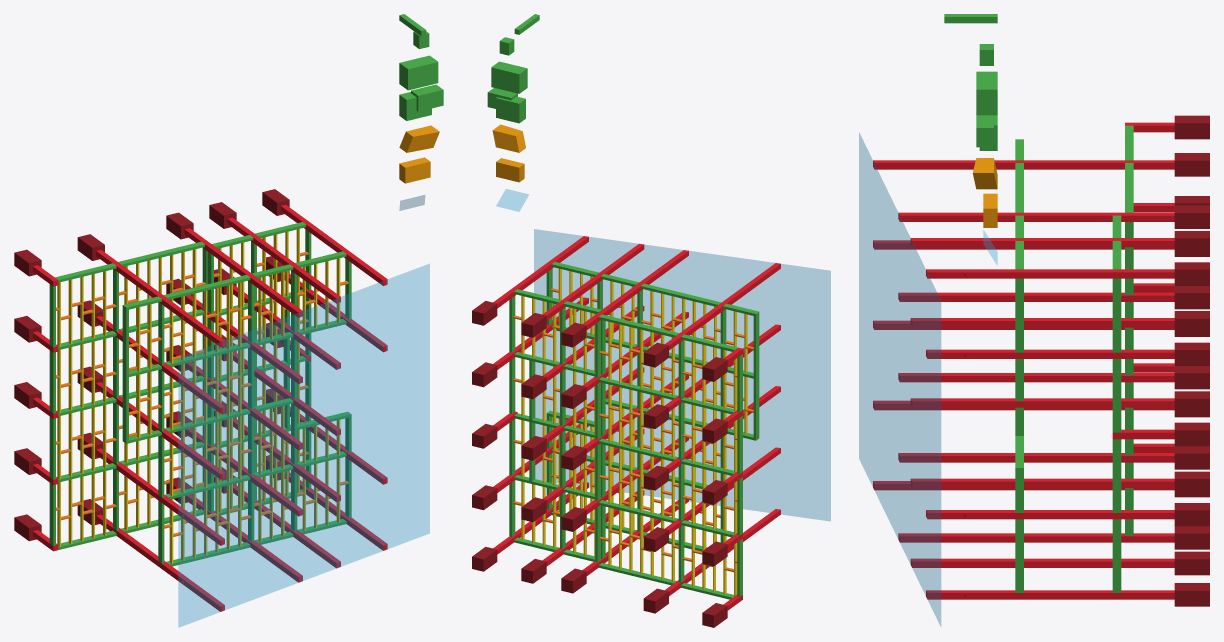
File: tinker.obj
3 renders of one model, left to right at view 1: azimuth 30°, elevation 25°; view 2: azimuth 150°, elevation 25°; view 3: azimuth 270°, elevation 25°, orthographic. The views are drawn at different scales.
Visible parts, largest first — view 1: obj_424, obj_1, obj_20, obj_15, obj_2, obj_420, obj_3, obj_421, obj_11, obj_6, obj_4, obj_13 (+12 smaller); view 2: obj_424, obj_1, obj_420, obj_2, obj_421, obj_3, obj_4, obj_20, obj_419, obj_15, obj_7, obj_13 (+14 smaller); view 3: obj_424, obj_1, obj_16, obj_21, obj_12, obj_7, obj_13, obj_2, obj_3, obj_4, obj_8, obj_17 (+42 smaller).
Boxes of the visible parts, x1,y1,x2,y2 form: obj_424: [178, 263, 429, 627]; obj_1: [96, 250, 224, 347]; obj_20: [96, 514, 224, 611]; obj_15: [96, 448, 224, 545]; obj_2: [184, 228, 302, 317]; obj_420: [399, 84, 443, 120]; obj_3: [227, 217, 340, 303]; obj_421: [399, 55, 438, 90]; obj_11: [96, 382, 224, 479]; obj_6: [96, 316, 224, 413]; obj_4: [280, 204, 387, 285]; obj_13: [233, 351, 340, 435]; obj_424: [534, 229, 830, 521]; obj_1: [665, 263, 780, 350]; obj_420: [487, 88, 525, 123]; obj_2: [582, 250, 688, 329]; obj_421: [491, 61, 527, 93]; obj_3: [542, 243, 644, 320]; obj_4: [493, 236, 588, 308]; obj_20: [665, 509, 780, 596]; obj_419: [492, 124, 525, 152]; obj_15: [665, 447, 780, 534]; obj_7: [582, 311, 688, 391]; obj_13: [542, 367, 644, 443]; obj_424: [859, 132, 940, 626]; obj_1: [873, 160, 1174, 169]; obj_16: [898, 453, 1174, 462]; obj_21: [898, 533, 1174, 542]; obj_12: [898, 373, 1174, 382]; obj_7: [898, 292, 1174, 301]; obj_13: [910, 398, 1174, 407]; obj_2: [898, 212, 1174, 221]; obj_3: [910, 238, 1174, 247]; obj_4: [926, 269, 1174, 278]; obj_8: [910, 318, 1174, 327]; obj_17: [910, 478, 1174, 487].
Size of the model in its own units: 132 by 192 by 99.11.
